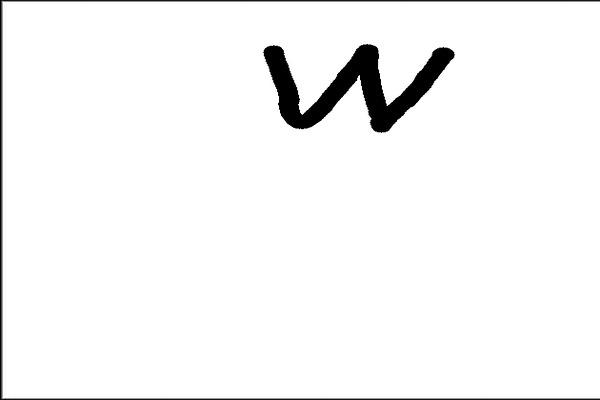w: (248, 28, 457, 154)
